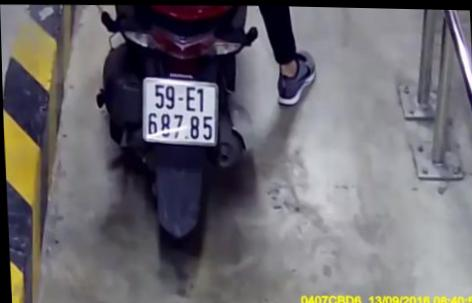LP: (139, 75, 220, 147)
